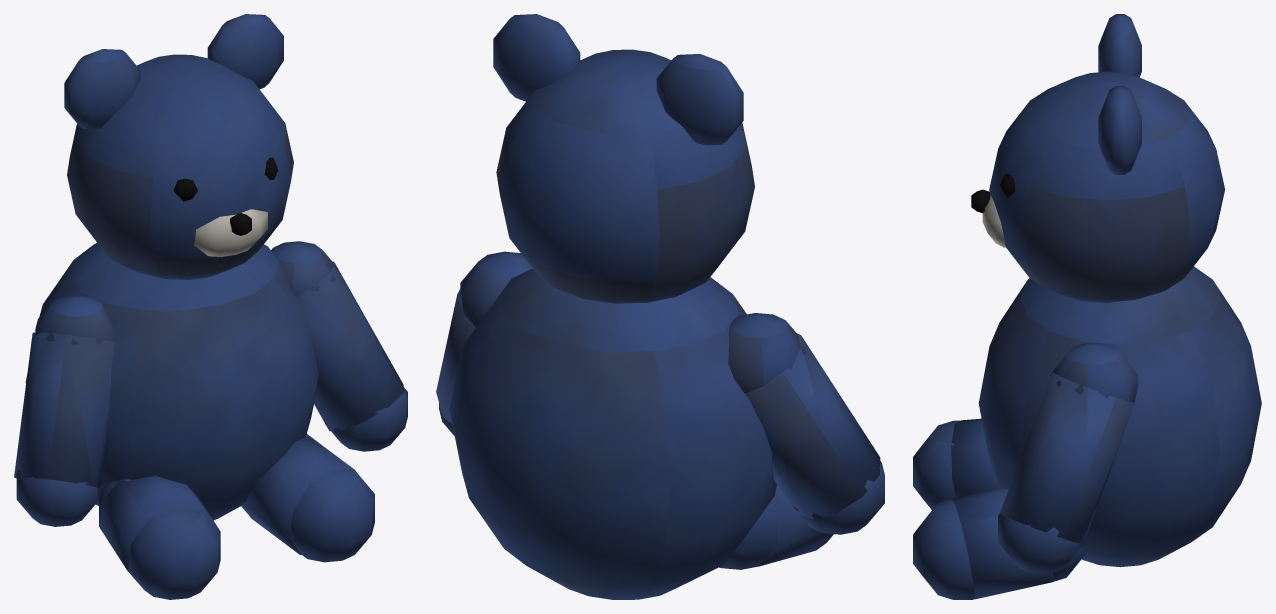
Rendered from TY11_plush_animal_v6.glb.
The picture shows the model from 3 angles, left to right: view 1: azimuth 30°, elevation 25°; view 2: azimuth 150°, elevation 25°; view 3: azimuth 270°, elevation 25°; orthographic projection. The views are drawn at different scales.
Parts seen in each view (by area): view 1: TY11_plush_animal_v6; view 2: TY11_plush_animal_v6; view 3: TY11_plush_animal_v6.
Part boxes in pixels (left/top/right/bottom): TY11_plush_animal_v6: left=14, top=14, right=407, bottom=599; TY11_plush_animal_v6: left=436, top=14, right=884, bottom=599; TY11_plush_animal_v6: left=913, top=14, right=1261, bottom=599.
Bounding box in the file's own units: 0.3237 × 0.4 × 0.2504.
3 materials, 3 textured.
